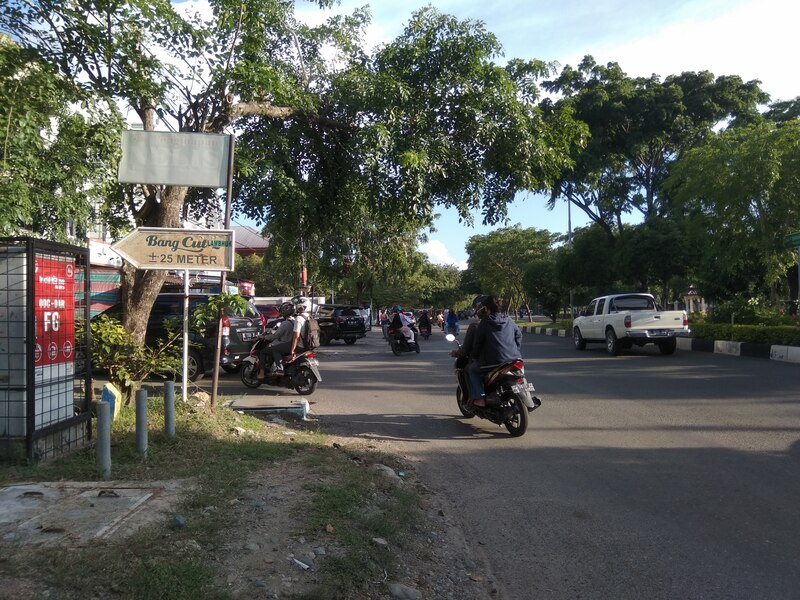car: (65, 285, 279, 382), (570, 294, 691, 364)
motorcycle: (445, 332, 546, 440), (242, 319, 330, 399), (386, 321, 429, 357)
